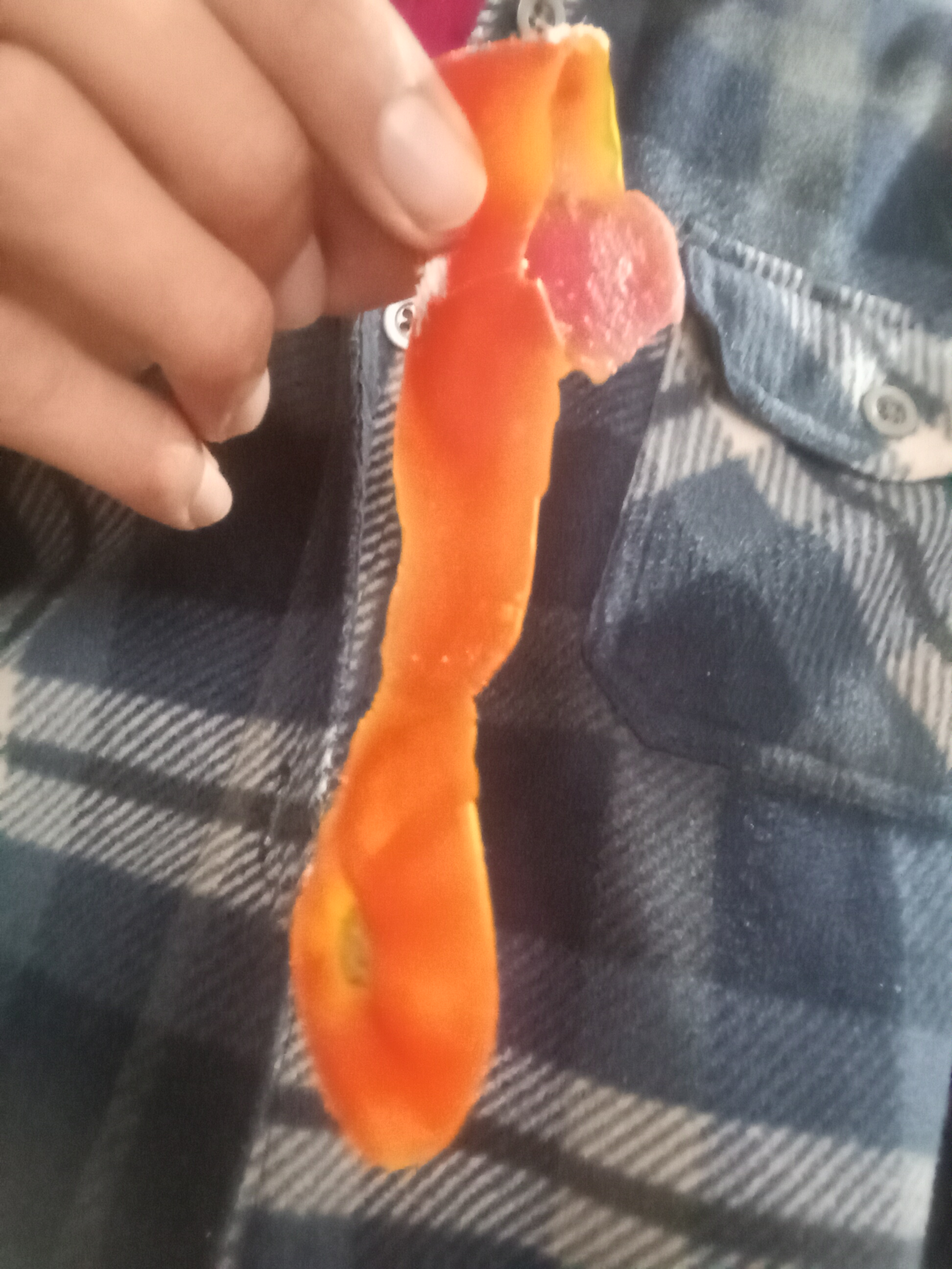Organico: (289, 21, 685, 1166)
